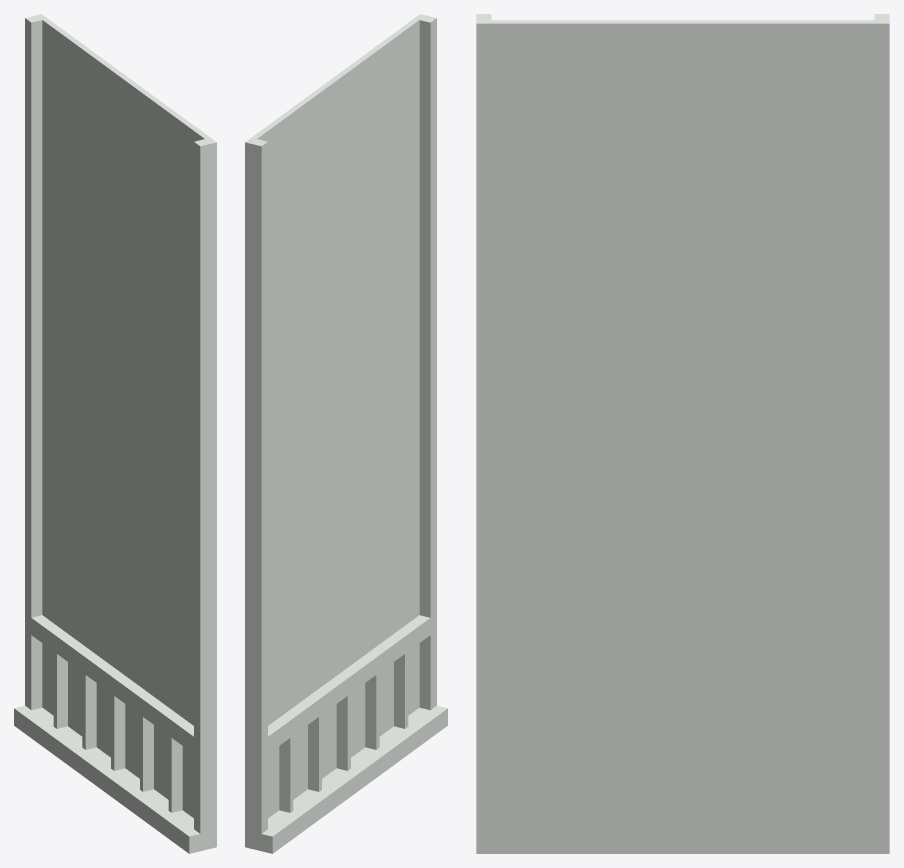
File: whitewall2.obj
3 views of the same model, side by side, from view 1: azimuth 30°, elevation 25°; view 2: azimuth 150°, elevation 25°; view 3: azimuth 270°, elevation 25° (orthographic). The views are drawn at different scales.
Size of the model in its own units: 0.5 by 12.2 by 5.5.
1 material, 1 textured.
